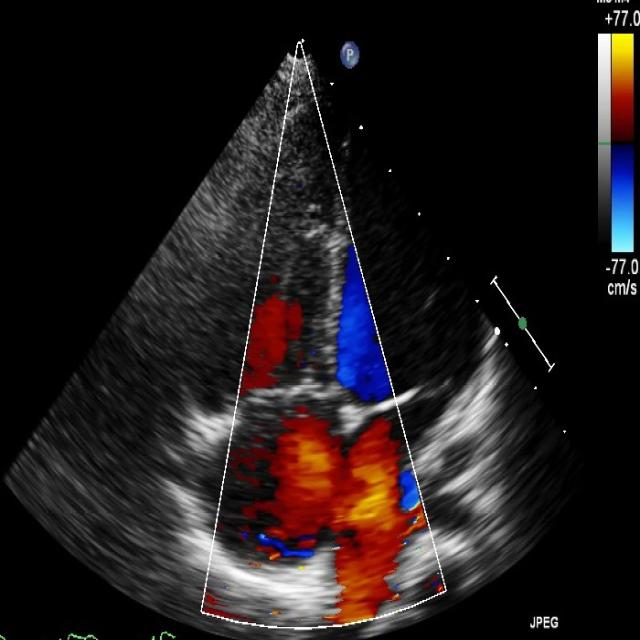ASDType2: (264, 402, 432, 627)
